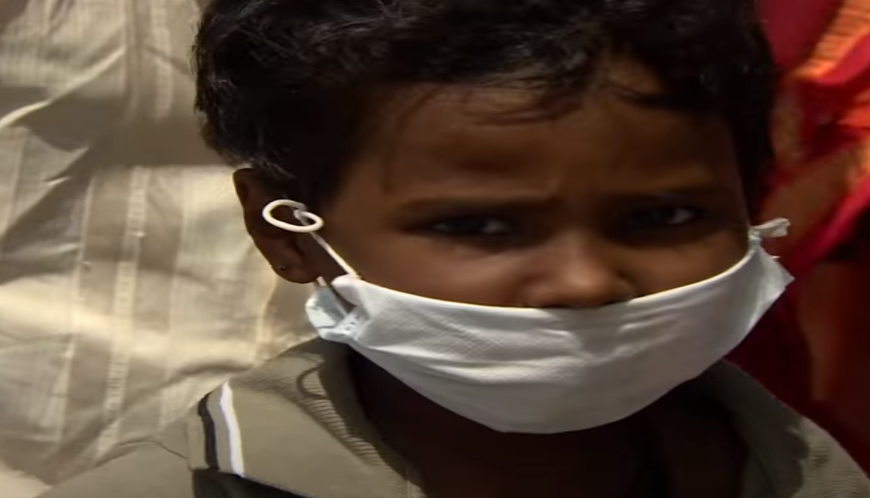mask_weared_incorrect: (244, 7, 796, 436)
